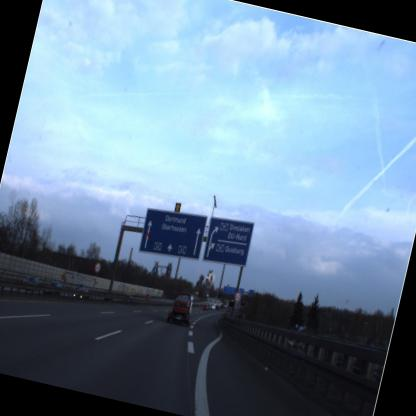prohibitory: (90, 256, 104, 277), (233, 290, 244, 306)
